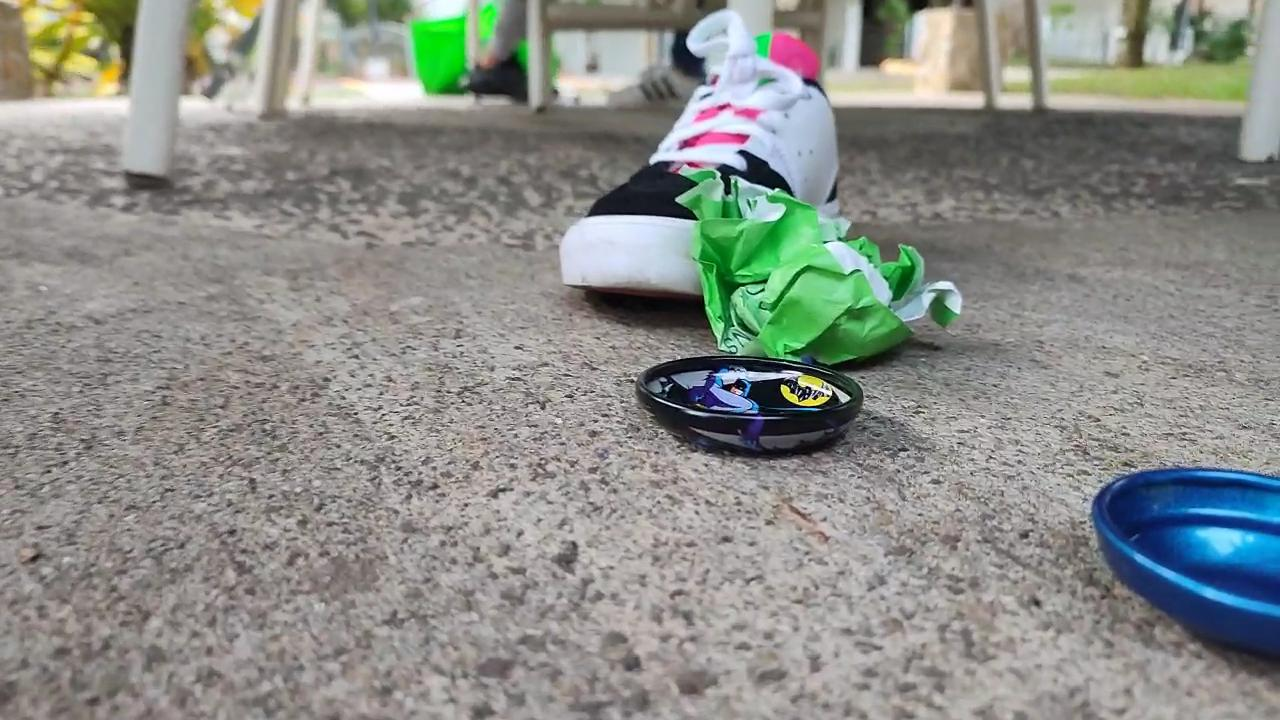Paper: (674, 158, 972, 368)
